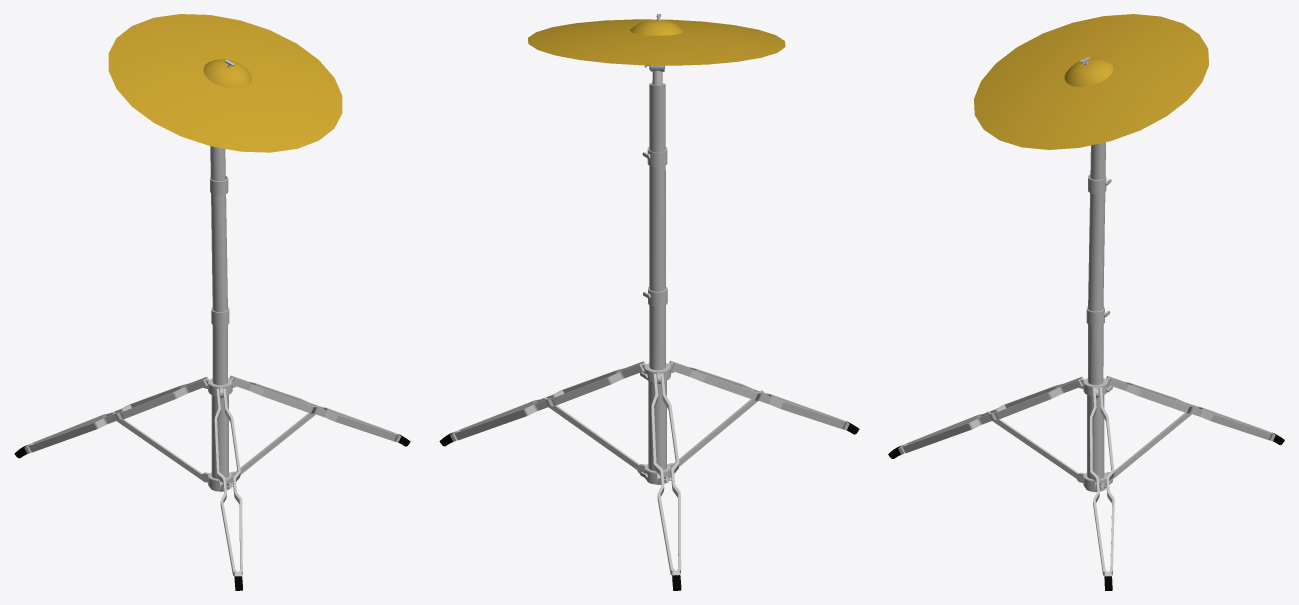
The model's file is Crash.obj.
3 renders of one model, left to right at view 1: azimuth 30°, elevation 25°; view 2: azimuth 150°, elevation 25°; view 3: azimuth 270°, elevation 25°, orthographic. The views are drawn at different scales.
Parts seen in each view (by area): view 1: Mesh18 Group18 cymbsl1 Model, Mesh30 cymbsl1 Model, Mesh22 Group23 Group21 cymbsl1 Model, Mesh4 Group5 Group4 cymbsl1 Model, Mesh7 Group8 Group7 cymbsl1 Model, Mesh8 Group9 Group7 cymbsl1 Model, Mesh21 Group22 Group21 cymbsl1 Model, Mesh20 Group20 cymbsl1 Model, Mesh5 Group6 Group4 cymbsl1 Model, Mesh6 Group4 cymbsl1 Model; view 2: Mesh18 Group18 cymbsl1 Model, Mesh30 cymbsl1 Model, Mesh6 Group4 cymbsl1 Model, Mesh7 Group8 Group7 cymbsl1 Model, Mesh21 Group22 Group21 cymbsl1 Model, Mesh22 Group23 Group21 cymbsl1 Model, Mesh5 Group6 Group4 cymbsl1 Model, Mesh4 Group5 Group4 cymbsl1 Model, Mesh13 Group13 cymbsl1 Model; view 3: Mesh18 Group18 cymbsl1 Model, Mesh30 cymbsl1 Model, Mesh8 Group9 Group7 cymbsl1 Model, Mesh21 Group22 Group21 cymbsl1 Model, Mesh6 Group4 cymbsl1 Model, Mesh4 Group5 Group4 cymbsl1 Model, Mesh7 Group8 Group7 cymbsl1 Model, Mesh13 Group13 cymbsl1 Model, Mesh20 Group20 cymbsl1 Model.
Part boxes in pixels (<box>): Mesh18 Group18 cymbsl1 Model: <box>108,14,342,152</box>; Mesh30 cymbsl1 Model: <box>208,146,232,491</box>; Mesh22 Group23 Group21 cymbsl1 Model: <box>26,379,207,452</box>; Mesh4 Group5 Group4 cymbsl1 Model: <box>232,378,398,441</box>; Mesh7 Group8 Group7 cymbsl1 Model: <box>214,388,241,576</box>; Mesh8 Group9 Group7 cymbsl1 Model: <box>223,388,242,578</box>; Mesh21 Group22 Group21 cymbsl1 Model: <box>24,376,208,453</box>; Mesh20 Group20 cymbsl1 Model: <box>111,411,202,479</box>; Mesh5 Group6 Group4 cymbsl1 Model: <box>235,405,319,474</box>; Mesh6 Group4 cymbsl1 Model: <box>229,375,410,446</box>; Mesh18 Group18 cymbsl1 Model: <box>528,19,785,65</box>; Mesh30 cymbsl1 Model: <box>644,70,670,484</box>; Mesh6 Group4 cymbsl1 Model: <box>439,364,644,446</box>; Mesh7 Group8 Group7 cymbsl1 Model: <box>671,363,846,429</box>; Mesh21 Group22 Group21 cymbsl1 Model: <box>651,373,680,575</box>; Mesh22 Group23 Group21 cymbsl1 Model: <box>661,373,681,577</box>; Mesh5 Group6 Group4 cymbsl1 Model: <box>543,397,639,469</box>; Mesh4 Group5 Group4 cymbsl1 Model: <box>450,361,645,441</box>; Mesh13 Group13 cymbsl1 Model: <box>674,390,764,466</box>; Mesh18 Group18 cymbsl1 Model: <box>974,14,1208,149</box>; Mesh30 cymbsl1 Model: <box>1083,142,1107,491</box>; Mesh8 Group9 Group7 cymbsl1 Model: <box>900,379,1082,453</box>; Mesh21 Group22 Group21 cymbsl1 Model: <box>1108,378,1273,440</box>; Mesh6 Group4 cymbsl1 Model: <box>1099,387,1114,590</box>; Mesh4 Group5 Group4 cymbsl1 Model: <box>1089,387,1111,576</box>; Mesh7 Group8 Group7 cymbsl1 Model: <box>898,376,1083,454</box>; Mesh13 Group13 cymbsl1 Model: <box>985,411,1078,478</box>; Mesh20 Group20 cymbsl1 Model: <box>1113,405,1196,478</box>.
Bounding box in the file's own units: 1.87 × 2.56 × 2.07.
